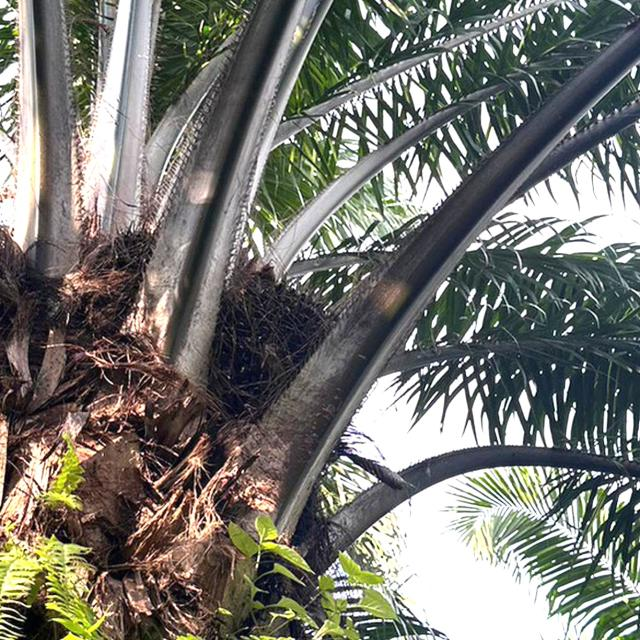unripe: (205, 274, 340, 422)
